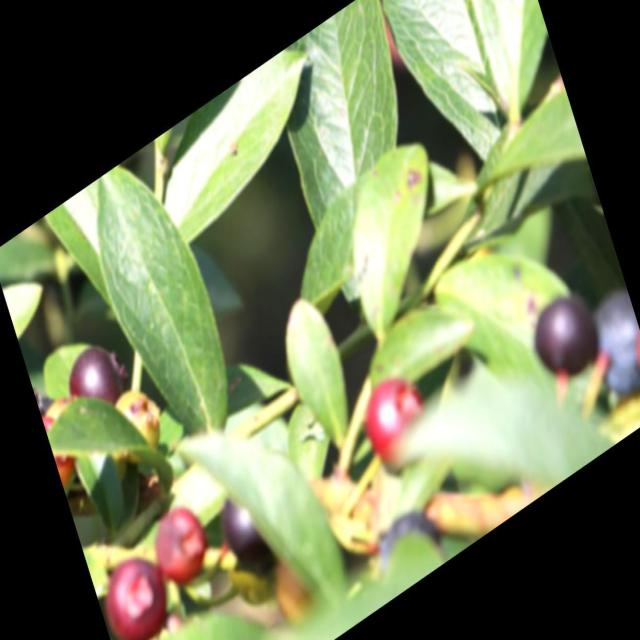blueberry: (523, 282, 602, 396), (62, 324, 136, 430), (216, 478, 278, 584)
blueberry-halfripe: (92, 531, 175, 639), (354, 364, 430, 474), (144, 493, 213, 596)
blueberry-unripe: (104, 367, 170, 471)
